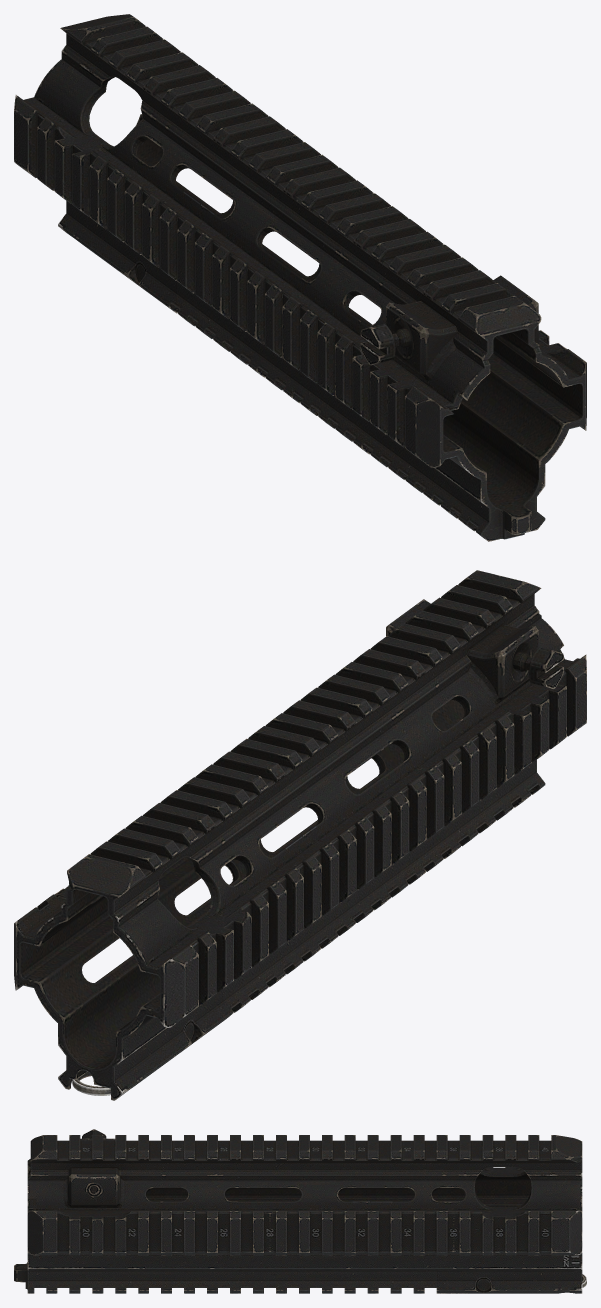
3 views of the same model, one above another, from view 1: azimuth 30°, elevation 25°; view 2: azimuth 150°, elevation 25°; view 3: azimuth 270°, elevation 25° (orthographic). The views are drawn at different scales.
Parts seen in each view (by area): view 1: TW_5bb20df1d4351e00347787d5_folded_PZ_Import; view 2: TW_5bb20df1d4351e00347787d5_folded_PZ_Import; view 3: TW_5bb20df1d4351e00347787d5_folded_PZ_Import.
Part boxes in pixels (x1=…): TW_5bb20df1d4351e00347787d5_folded_PZ_Import: x1=14, y1=14, x2=586, y2=541; TW_5bb20df1d4351e00347787d5_folded_PZ_Import: x1=14, y1=570, x2=586, y2=1100; TW_5bb20df1d4351e00347787d5_folded_PZ_Import: x1=14, y1=1129, x2=586, y2=1293.
Bounding box in the file's own units: 0.0339 × 0.1444 × 0.0398.
1 material, 1 textured.
